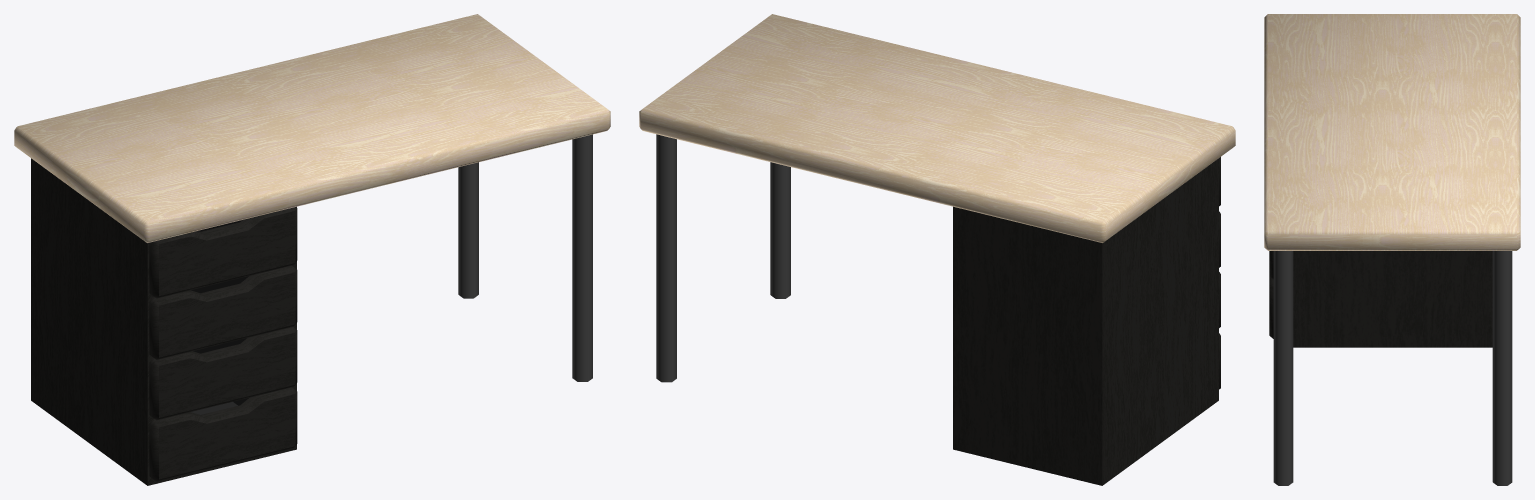
Rendered from work_table_014.fbx.
3 views of the same model, side by side, from view 1: azimuth 30°, elevation 25°; view 2: azimuth 150°, elevation 25°; view 3: azimuth 270°, elevation 25° (orthographic). The views are drawn at different scales.
Visible parts, largest first — view 1: work_table_014; view 2: work_table_014; view 3: work_table_014.
Boxes of the visible parts, x1,y1,x2,y2 form: work_table_014: (14,14,610,485); work_table_014: (639,14,1235,485); work_table_014: (1264,14,1520,485).
Bounding box in the file's own units: 165 × 81.5 × 91.5.
